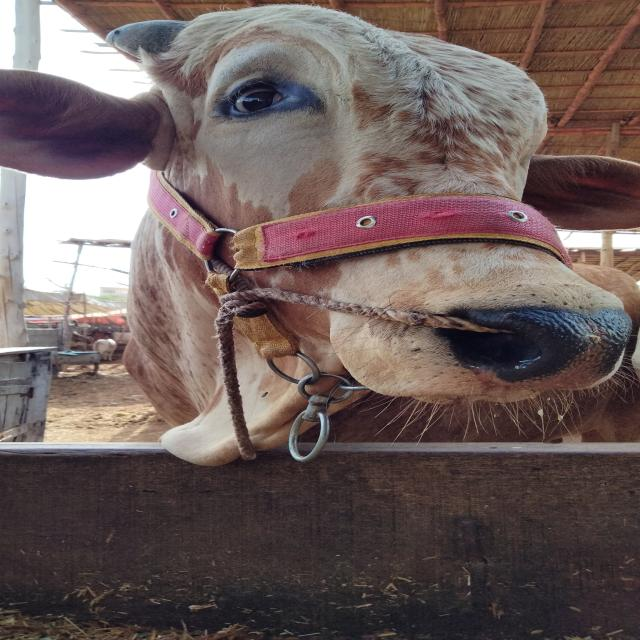muzzles: (418, 290, 638, 397)
